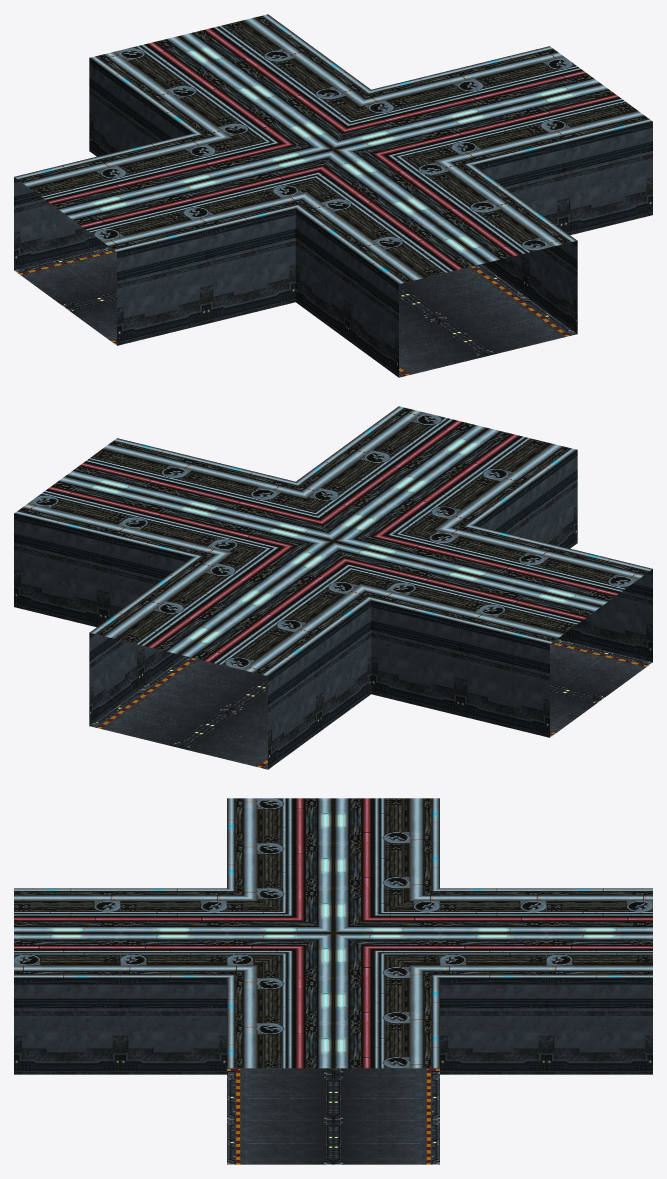
The model's file is pbtunn01.FBX.
3 renders of one model, top to bottom at view 1: azimuth 30°, elevation 25°; view 2: azimuth 150°, elevation 25°; view 3: azimuth 270°, elevation 25°, orthographic. The views are drawn at different scales.
Parts seen in each view (by area): view 1: pbtunn01; view 2: pbtunn01; view 3: pbtunn01.
Boxes of the visible parts, x1,y1,x2,y2 form: pbtunn01: (14, 14, 652, 377); pbtunn01: (14, 406, 652, 769); pbtunn01: (14, 798, 652, 1164).
Size of what is drawn, in the model's own units: 96 by 96 by 16.
